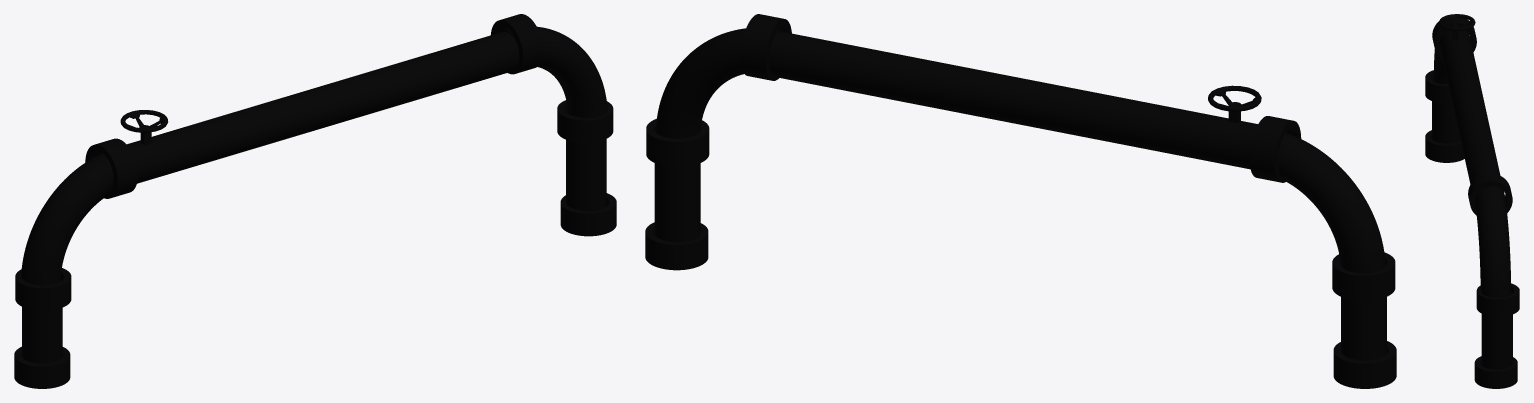
The picture shows the model from 3 angles, left to right: view 1: azimuth 30°, elevation 25°; view 2: azimuth 150°, elevation 25°; view 3: azimuth 270°, elevation 25°; orthographic projection. The views are drawn at different scales.
Parts seen in each view (by area): view 1: mesh_id96, mesh_id43, mesh_id163, mesh_id161, mesh_id30, mesh_id67, mesh_id108, mesh_id172, mesh_id89, mesh_id162, mesh_id160, node_id135; view 2: mesh_id96, mesh_id43, mesh_id163, mesh_id161, mesh_id30, mesh_id160, mesh_id108, mesh_id89, mesh_id162, mesh_id67, mesh_id172, node_id135; view 3: mesh_id96, mesh_id163, mesh_id161, mesh_id30, mesh_id160, mesh_id172, mesh_id162, mesh_id89, mesh_id67, mesh_id108, mesh_id43, node_id135.
Part boxes in pixels (x1,y1,x2,y2): mesh_id96: (127, 31, 518, 183); mesh_id43: (21, 153, 113, 285); mesh_id163: (500, 26, 607, 117); mesh_id161: (566, 112, 606, 210); mesh_id30: (22, 280, 62, 363); mesh_id67: (15, 268, 71, 310); mesh_id108: (85, 138, 137, 198); mesh_id172: (560, 193, 616, 236); mesh_id89: (14, 346, 70, 388); mesh_id162: (491, 14, 543, 74); mesh_id160: (557, 100, 613, 142); node_id135: (120, 110, 168, 132); mesh_id96: (769, 31, 1257, 169); mesh_id43: (1278, 133, 1385, 273); mesh_id163: (656, 28, 784, 138); mesh_id161: (654, 163, 700, 242); mesh_id30: (1341, 297, 1386, 360); mesh_id160: (646, 118, 709, 167); mesh_id108: (1249, 116, 1301, 182); mesh_id89: (1333, 341, 1396, 388); mesh_id162: (740, 14, 791, 80); mesh_id67: (1332, 252, 1395, 300); mesh_id172: (645, 222, 708, 270); node_id135: (1208, 85, 1261, 111); mesh_id96: (1439, 30, 1505, 197); mesh_id163: (1475, 186, 1511, 297); mesh_id161: (1481, 293, 1512, 369); mesh_id30: (1432, 80, 1460, 143); mesh_id160: (1476, 283, 1519, 316); mesh_id172: (1474, 356, 1517, 388); mesh_id162: (1468, 173, 1512, 215); mesh_id89: (1425, 130, 1464, 162); mesh_id67: (1425, 70, 1452, 103); mesh_id108: (1432, 17, 1476, 58); mesh_id43: (1433, 31, 1469, 83); node_id135: (1439, 14, 1475, 30).
Size of the model in its own units: 0.7288 by 0.2652 by 0.124.
Materials: 10 (10 with a texture image).
